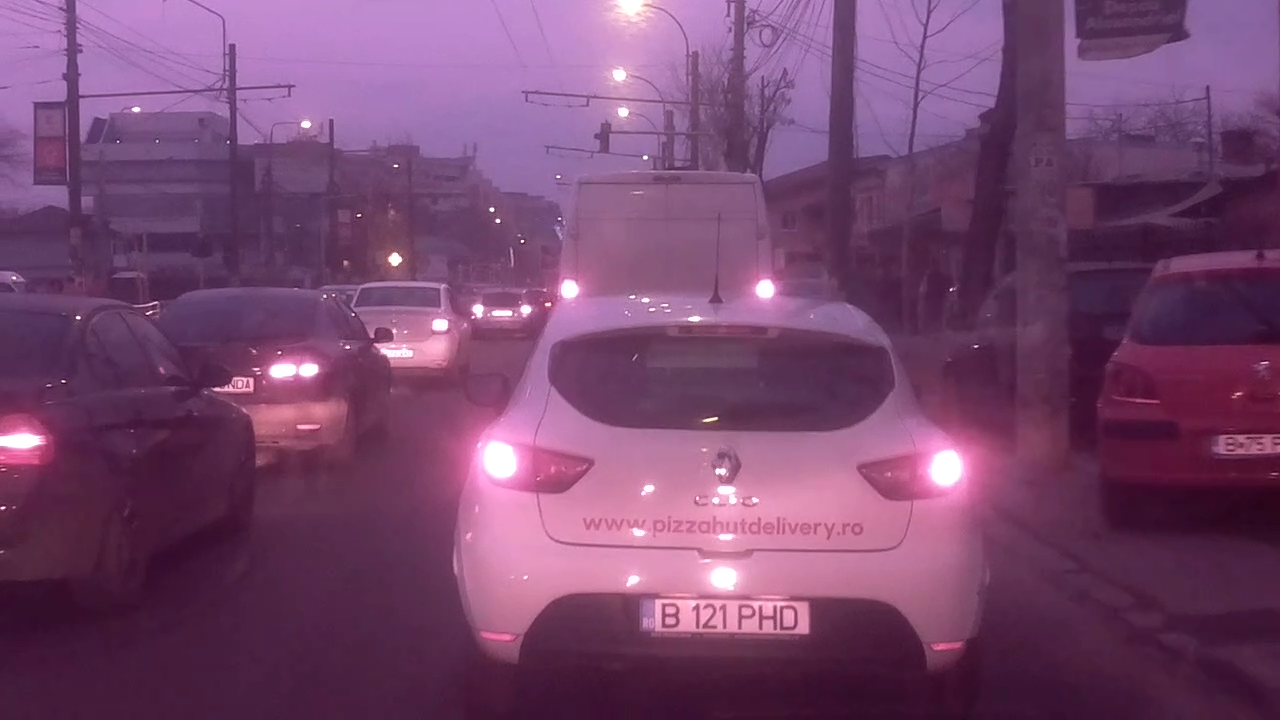license-plate: (633, 594, 814, 639)
